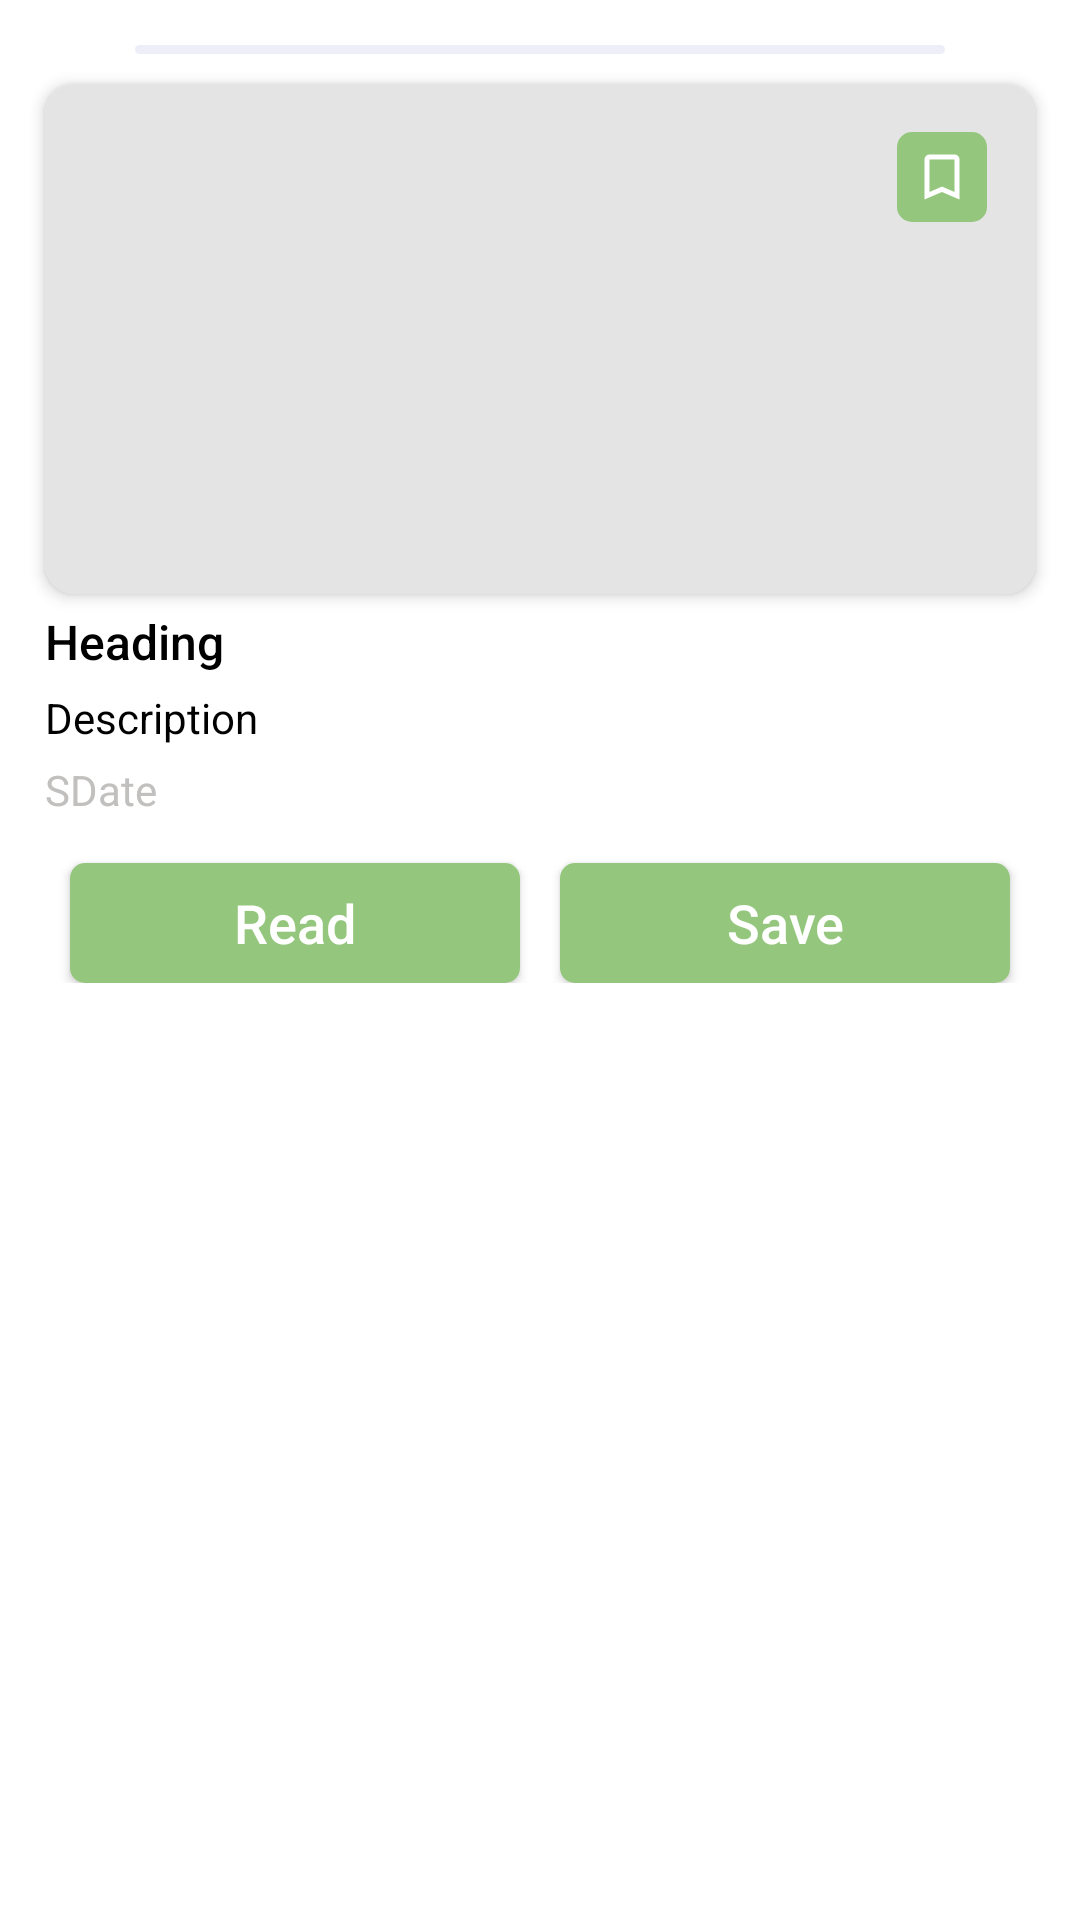

Screen size 1080w x 1920h. Icon name, then its box in pixels as (left=x1, top=y1, right=x2, bottom=y2):
bookmark: (left=897, top=132, right=987, bottom=222)
